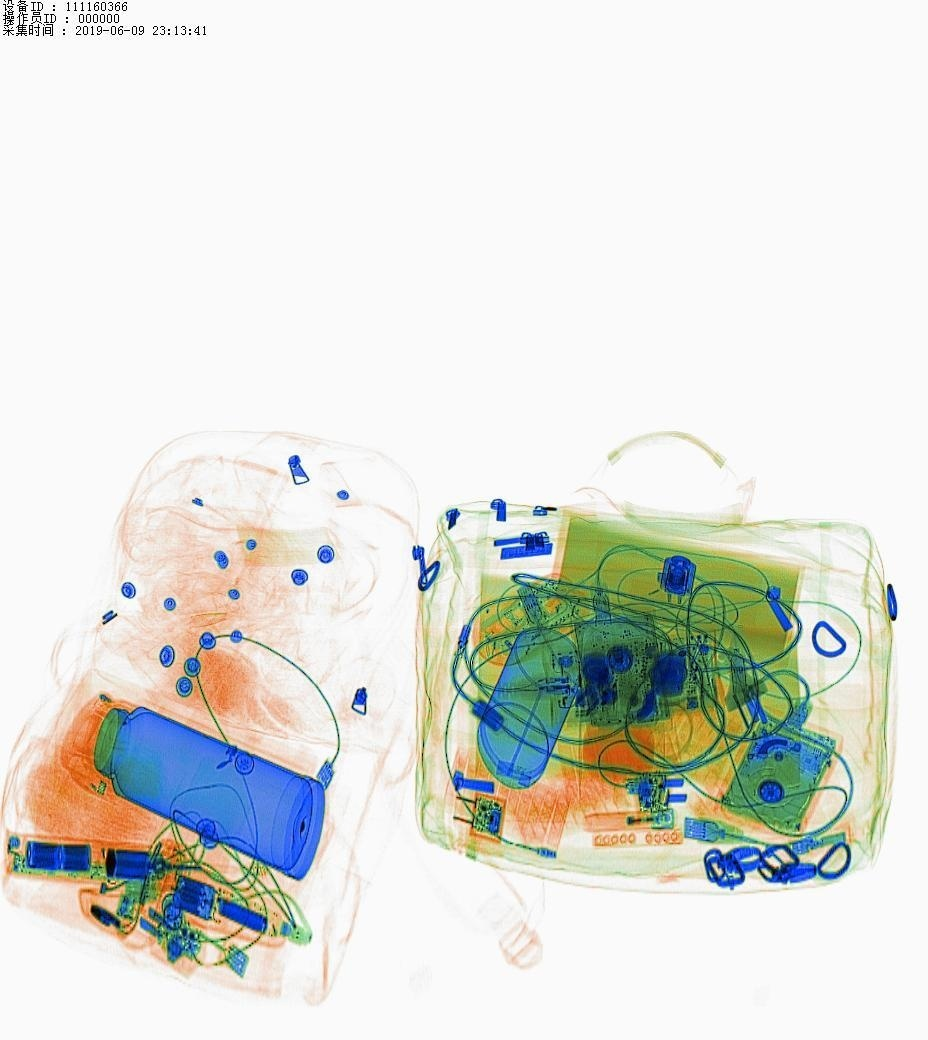NonmetallicFire: (562, 797, 690, 841)
